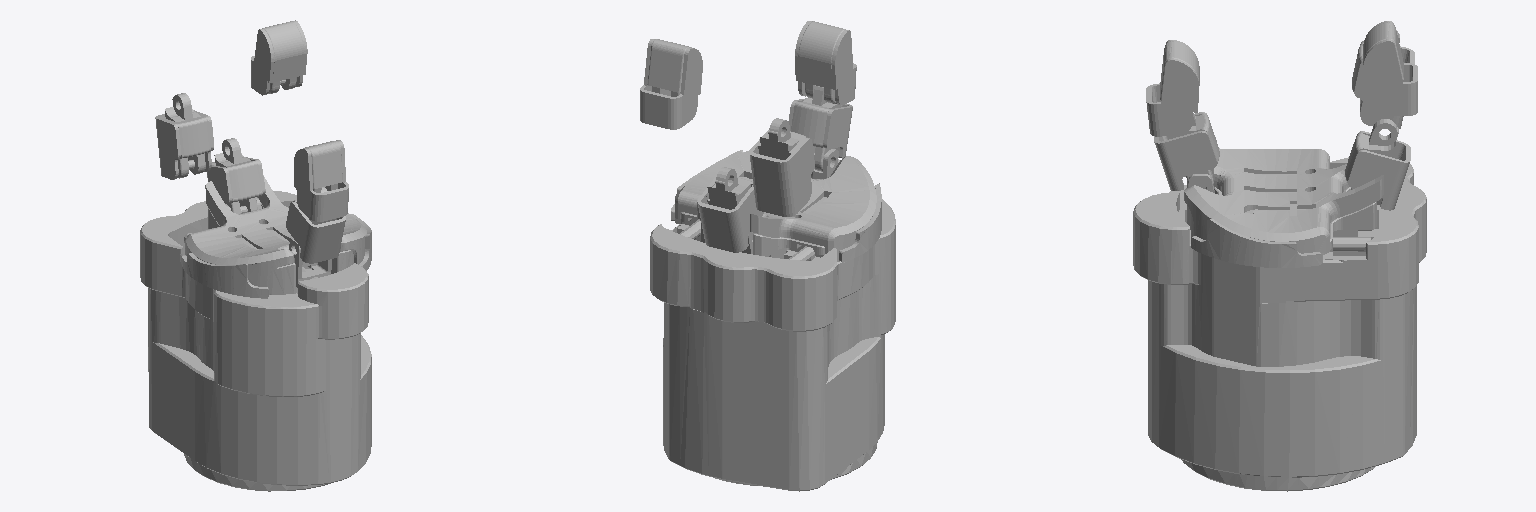
--- Facts derived from the render (not from the file) ---
3 views of the same robot in one strip: view 1: azimuth 30°, elevation 25°; view 2: azimuth 150°, elevation 25°; view 3: azimuth 270°, elevation 25° (orthographic).
Model heri_II with 17 links and 16 joints (15 revolute, 1 fixed), rooted at world, posed every joint at zero.
Visible links, largest first — view 1: base_link, LFP1_2, SFP1_2, LFP3_3, LFP2_1, SFB1_1, SFB1; view 2: base_link, LFP1_2, LFP3_3, SFP1_2, LFP2_1, SFB1_1; view 3: base_link, LFP3_3, SFP1_2, LFP2_1, SFB1_1, LFP1_2.
Link boxes in pixels (bbox=[...]): base_link: bbox=[140, 175, 371, 491]; LFP1_2: bbox=[155, 93, 213, 179]; SFP1_2: bbox=[294, 140, 348, 221]; LFP3_3: bbox=[251, 20, 307, 95]; LFP2_1: bbox=[207, 138, 265, 213]; SFB1_1: bbox=[286, 187, 345, 263]; SFB1: bbox=[289, 239, 331, 287]; base_link: bbox=[650, 150, 895, 491]; LFP1_2: bbox=[749, 118, 814, 216]; LFP3_3: bbox=[640, 39, 702, 129]; SFP1_2: bbox=[795, 21, 856, 105]; LFP2_1: bbox=[697, 167, 763, 252]; SFB1_1: bbox=[788, 85, 852, 171]; base_link: bbox=[1133, 148, 1426, 491]; LFP3_3: bbox=[1363, 21, 1417, 115]; SFP1_2: bbox=[1146, 40, 1199, 136]; LFP2_1: bbox=[1345, 119, 1410, 210]; SFB1_1: bbox=[1154, 112, 1219, 190]; LFP1_2: bbox=[1352, 30, 1414, 128].
Bounding box of the posed robot: 0.1112 × 0.1401 × 0.2338 m (x, y, z).
8 mesh visuals loaded from 16 distinct referenced files (8 binary STL); not drawn: 8 (reference not matched to a file when rendering).

robot.urdf — heri_II:
<?xml version="1.0" ?>
<!-- =================================================================================== -->
<!-- |    This document was autogenerated by xacro from heri_II.xacro                  | -->
<!-- |    EDITING THIS FILE BY HAND IS NOT RECOMMENDED                                 | -->
<!-- =================================================================================== -->
<robot name="heri_II" xmlns:xacro="http://ros.org/wiki/xacro">
  <!-- rosee plugin -->
  <gazebo>
    <plugin filename="libHeriIIPlugin.so" name="heri_controller">
      </plugin>
  </gazebo>
  <!-- /////////////////////////////////   Gazebo   ////////////////////////////////////// -->
  <gazebo reference="base_link">
    <fudgeFactor value="0.5"/>
    <material>Gazebo/Red</material>
  </gazebo>
  <gazebo reference="SFB1">
    <fudgeFactor value="0.5"/>
    <material>Gazebo/White</material>
  </gazebo>
  <gazebo reference="SFB1_1">
    <fudgeFactor value="0.5"/>
    <material>Gazebo/White</material>
  </gazebo>
  <gazebo reference="SFP1_2">
    <fudgeFactor value="0.5"/>
    <material>Gazebo/Blue</material>
  </gazebo>
  <gazebo reference="LFB1">
    <fudgeFactor value="0.5"/>
    <material>Gazebo/White</material>
  </gazebo>
  <gazebo reference="LFP1_1">
    <fudgeFactor value="0.5"/>
    <material>Gazebo/White</material>
  </gazebo>
  <gazebo reference="LFP1_2">
    <fudgeFactor value="0.5"/>
    <material>Gazebo/White</material>
  </gazebo>
  <gazebo reference="LFP1_3">
    <fudgeFactor value="0.5"/>
    <material>Gazebo/Blue</material>
  </gazebo>
  <gazebo reference="LFB2">
    <fudgeFactor value="0.5"/>
    <material>Gazebo/White</material>
  </gazebo>
  <gazebo reference="LFP2_1">
    <fudgeFactor value="0.5"/>
    <material>Gazebo/White</material>
  </gazebo>
  <gazebo reference="LFP2_2">
    <fudgeFactor value="0.5"/>
    <material>Gazebo/White</material>
  </gazebo>
  <gazebo reference="LFP2_3">
    <fudgeFactor value="0.5"/>
    <material>Gazebo/Blue</material>
  </gazebo>
  <material name="Black">
    <color rgba="0 0 0 1"/>
  </material>
  <material name="White">
    <color rgba="1 1 1 1"/>
  </material>
  <material name="Blue">
    <color rgba="0 0 1 1"/>
  </material>
  <material name="Red">
    <color rgba="1 0 0 1"/>
  </material>
  <!-- ///////////////////////////////////////   Short Finger   ////////////////////////////////////////// -->
  <!-- ///////////////////////////////////////   base_link   ////////////////////////////////////////// -->
  <link name="world"/>
  <joint name="world_base" type="fixed">
    <!-- z!= from 1 is necessary because otherwise the hand has tremors. I think this is because it compentetrate
     with the terrain ? -->
    <origin rpy="0 0 0" xyz="0 0 0.015"/>
    <parent link="world"/>
    <child link="base_link"/>
  </joint>
  <link name="base_link">
    <inertial>
      <origin rpy="0 0 0" xyz="0.00030739 0.003138 -0.0012876"/>
      <mass value="0.73864"/>
      <inertia ixx="0.0010292" ixy="-6.0935E-06" ixz="1.0739E-05" iyy="0.0011781" iyz="1.3882E-05" izz="0.00089393"/>
    </inertial>
    <visual>
      <origin rpy="0 0 0" xyz="0 0 0"/>
      <geometry>
        <mesh filename="package://ros_end_effector/configs/meshes/heri_II/base_heri_ii.STL"/>
      </geometry>
      <material name="">
        <color rgba="0.75294 0.75294 0.75294 1"/>
      </material>
    </visual>
    <collision>
      <origin rpy="0 0 0" xyz="0 0 0"/>
      <geometry>
        <mesh filename="package://ros_end_effector/configs/meshes/heri_II/base_heri_ii.STL"/>
      </geometry>
    </collision>
  </link>
  <!-- ///////////////////////////////////////   Base_Link of the short_finger   ////////////////////////////////////////// -->
  <link name="SFB1">
    <inertial>
      <origin rpy="0 0 0" xyz="3.9400487E-03 0 6.4488006E-03"/>
      <mass value="4.1065000E-03"/>
      <inertia ixx="4.3061452E-07" ixy="0" ixz="-1.2027573E-07" iyy="3.9605806E-07" iyz="0" izz="3.9738552E-07"/>
    </inertial>
    <visual>
      <origin rpy="0 0 0" xyz="0 0 0"/>
      <geometry>
        <mesh filename="package://ros_end_effector/configs/meshes/heri_II/SFB1.STL"/>
      </geometry>
      <material name="">
        <color rgba="0.75294 0.75294 0.75294 1"/>
      </material>
    </visual>
    <collision>
      <origin rpy="0 0 0" xyz="0 0 0"/>
      <geometry>
        <mesh filename="package://ros_end_effector/configs/meshes/heri_II/SFB1.STL"/>
      </geometry>
    </collision>
  </link>
  <!-- ///////////////////////////////////////   Joint of BASE and the base_link of the short finger   ////////////////////////////////////////// -->
  <joint name="BASE__SFB1" type="revolute">
    <origin rpy="1.5708 -1.5708 0" xyz="7.6421E-05 -0.031634 0.1213"/>
    <parent link="base_link"/>
    <child link="SFB1"/>
    <axis xyz="0 0 1"/>
    <limit effort="10" lower="-0.1" upper="0.1" velocity="1"/>
    <dynamics damping="0.003" friction="0.003"/>
  </joint>
  <!-- ///////////////////////////////////////   First phalanx of the Short_Finger   ////////////////////////////////////////// -->
  <link name="SFB1_1">
    <inertial>
      <origin rpy="0 0 0" xyz="0.013537693 -0.00011389541 0.00014514898"/>
      <mass value="0.021630428"/>
      <inertia ixx="1.7547572E-06" ixy="1.2425281E-07" ixz="-5.2776703E-08" iyy="7.3422819E-06" iyz="-1.1395559E-09" izz="7.1587820E-06"/>
    </inertial>
    <visual>
      <origin rpy="0 0 0" xyz="0 0 0"/>
      <geometry>
        <mesh filename="package://ros_end_effector/configs/meshes/heri_II/SFB1_1.STL"/>
      </geometry>
      <material name="">
        <color rgba="0.75294 0.75294 0.75294 1"/>
      </material>
    </visual>
    <collision>
      <origin rpy="0 0 0" xyz="0 0 0"/>
      <geometry>
        <mesh filename="package://ros_end_effector/configs/meshes/heri_II/SFB1_1.STL"/>
      </geometry>
    </collision>
  </link>
  <!-- ///////////////////////////////////////   Joint of base_link and the first phalanx of the short finger   ////////////////////////////////////////// -->
  <joint name="SFB1__SFP1_1" type="revolute">
		<origin xyz="0.0211 0 0.007" rpy="1.5708 -0.29671 0" />
    <parent link="SFB1"/>
    <child link="SFB1_1"/>
    <axis xyz="0 0 -1"/>
    <limit effort="10" lower="-0.1" upper="0.9" velocity="1"/>
    <dynamics damping="0.003" friction="0.003"/>
  </joint>
  <!-- ///////////////////////////////////////   Tip phalanx of the short finger   ////////////////////////////////////////// -->
  <link name="SFP1_2">
    <inertial>
      <origin rpy="0 0 0" xyz="0.012398348 -0.00034958691 0.000050212619"/>
      <mass value="0.02226615"/>
      <inertia ixx="1.7400409E-06" ixy="4.4309075E-07" ixz="-1.3771833E-08" iyy="6.8917616E-06" iyz="6.4562527E-09" izz="6.4653229E-06"/>
    </inertial>
    <visual>
      <origin rpy="0 0 0" xyz="0 0 0"/>
      <geometry>
        <mesh filename="package://ros_end_effector/configs/meshes/heri_II/SFP1_2.STL"/>
      </geometry>
      <material name="">
        <color rgba="0.75294 0.75294 0.75294 1"/>
      </material>
    </visual>
    <collision>
      <origin rpy="0 0 0" xyz="0 0 0"/>
      <geometry>
        <mesh filename="package://ros_end_effector/configs/meshes/heri_II/SFP1_2.STL"/>
      </geometry>
    </collision>
  </link>
  <!-- ///////////////////////////////////////   Joint of first and tip phalanxs of the short finger   ////////////////////////////////////////// -->
  <joint name="SFP1_1__SFP1_2" type="revolute">
    <origin rpy="0 0 0" xyz="0.035 0 0"/>
    <parent link="SFB1_1"/>
    <child link="SFP1_2"/>
    <axis xyz="0 0 -1"/>
    <limit effort="10" lower="-0.1" upper="1.2" velocity="1"/>
    <dynamics damping="0.003" friction="0.003"/>
    <mimic joint="SFB1__SFP1_1" multiplier="1.2" offset="0.2"/>
  </joint>
  <!-- ///////////////////////////////////////   Long finger 1   ////////////////////////////////////////// -->
  <!-- ///////////////////////////////////////   Base_Link of the long_finger   ////////////////////////////////////////// -->
  <link name="LFB1">
    <inertial>
      <origin rpy="0 0 0" xyz="0.000045491656 -0.0037522651 0.0064111226"/>
      <mass value="0.0039598861"/>
      <inertia ixx="4.3061452E-07" ixy="0" ixz="-1.2027573E-07" iyy="3.9605806E-07" iyz="0" izz="3.9738552E-07"/>
    </inertial>
    <visual>
      <origin rpy="0 0 0" xyz="0 0 0"/>
      <geometry>
        <mesh filename="package://ros_end_effector/configs/meshes/heri_II/LFB1.STL"/>
      </geometry>
      <material name="">
        <color rgba="0.75294 0.75294 0.75294 1"/>
      </material>
    </visual>
    <collision>
      <origin rpy="0 0 0" xyz="0 0 0"/>
      <geometry>
        <mesh filename="package://ros_end_effector/configs/meshes/heri_II/LFB1.STL"/>
      </geometry>
    </collision>
  </link>
  <!-- ///////////////////////////////////////   Joint of BASE and the base_link of the short finger   ////////////////////////////////////////// -->
  <joint name="BASE__LFB1" type="revolute">
    <origin rpy="1.5708 -1.5708 3.1415927" xyz="-0.031002 0.025903 0.1213"/>
    <parent link="base_link"/>
    <child link="LFB1"/>
    <axis xyz="0 0 1"/>
    <limit effort="10" lower="-0.1" upper="0.1" velocity="1"/>
    <dynamics damping="0.003" friction="0.003"/>
  </joint>
  <!-- ///////////////////////////////////////   First phalanx of the Long_Finger   ////////////////////////////////////////// -->
  <link name="LFP1_1">
    <inertial>
      <origin rpy="0 0 0" xyz="0.013537693 -0.00011389541 0.00014514898"/>
      <mass value="0.021630428"/>
      <inertia ixx="1.7547572E-06" ixy="1.2425281E-07" ixz="-5.2776703E-08" iyy="7.3422819E-06" iyz="-1.1395559E-09" izz="7.1587820E-06"/>
    </inertial>
    <visual>
      <origin rpy="0 0 0" xyz="0 0 0"/>
      <geometry>
        <mesh filename="package://ros_end_effector/configs/meshes/heri_II/LFP1_1.STL"/>
      </geometry>
      <material name="">
        <color rgba="0.75294 0.75294 0.75294 1"/>
      </material>
    </visual>
    <collision>
      <origin rpy="0 0 0" xyz="0 0 0"/>
      <geometry>
        <mesh filename="package://ros_end_effector/configs/meshes/heri_II/LFP1_1.STL"/>
      </geometry>
    </collision>
  </link>
  <!-- ///////////////////////////////////////   Joint of base_link and the first phalanx of the short finger   ////////////////////////////////////////// -->
  <joint name="LFB1__LFP1_1" type="revolute">
    <origin rpy="1.5708 -0.29671 0" xyz="0.011 0 0.007"/>
    <parent link="LFB1"/>
    <child link="LFP1_1"/>
    <axis xyz="0 0 -1"/>
    <limit effort="10" lower="-0.1" upper="0.9" velocity="1"/>
    <dynamics damping="0.003" friction="0.003"/>
  </joint>
  <!-- ///////////////////////////////////////   Second phalanx of the Long_Finger   ////////////////////////////////////////// -->
  <link name="LFP1_2">
    <inertial>
      <origin rpy="0 0 0" xyz="0.012816858 0.00029615072 0.00012767631"/>
      <mass value="0.022869549"/>
      <inertia ixx="1.9943688E-06" ixy="1.3380251E-07" ixz="-5.3468405E-08" iyy="7.4922799E-06" iyz="-9.2812315E-10" izz="7.3102836E-06"/>
    </inertial>
    <visual>
      <origin rpy="0 0 0" xyz="0 0 0"/>
      <geometry>
        <mesh filename="package://ros_end_effector/configs/meshes/heri_II/LFP1_2.STL"/>
      </geometry>
      <material name="">
        <color rgba="0.75294 0.75294 0.75294 1"/>
      </material>
    </visual>
    <collision>
      <origin rpy="0 0 0" xyz="0 0 0"/>
      <geometry>
        <mesh filename="package://ros_end_effector/configs/meshes/heri_II/LFP1_2.STL"/>
      </geometry>
    </collision>
  </link>
  <!-- ///////////////////////////////////////   Joint of base_link and the first phalanx of the long finger   ////////////////////////////////////////// -->
  <joint name="LFP1_1__LFP1_2" type="revolute">
    <origin rpy="0 0 0" xyz="0.035 0 0"/>
    <parent link="LFP1_1"/>
    <child link="LFP1_2"/>
    <axis xyz="0 0 -1"/>
    <limit effort="10" lower="-0.1" upper="0.5" velocity="1"/>
    <dynamics damping="0.06" friction="0.05"/>
    <mimic joint="LFB1__LFP1_1" multiplier="1" offset="0.1"/>
  </joint>
  <!-- ///////////////////////////////////////   Tip phalanx of the long finger   ////////////////////////////////////////// -->
  <link name="LFP1_3">
    <inertial>
      <origin rpy="0 0 0" xyz="0.012398348 -0.00034958691 0.000050212619"/>
      <mass value="0.02226615"/>
      <inertia ixx="1.7400409E-06" ixy="4.4309075E-07" ixz="-1.3771833E-08" iyy="6.8917616E-06" iyz="6.4562527E-09" izz="6.4653229E-06"/>
    </inertial>
    <visual>
      <origin rpy="0 0 0" xyz="0 0 0"/>
      <geometry>
        <mesh filename="package://ros_end_effector/configs/meshes/heri_II/LFP1_3.STL"/>
      </geometry>
      <material name="">
        <color rgba="0.75294 0.75294 0.75294 1"/>
      </material>
    </visual>
    <collision>
      <origin rpy="0 0 0" xyz="0 0 0"/>
      <geometry>
        <mesh filename="package://ros_end_effector/configs/meshes/heri_II/LFP1_3.STL"/>
      </geometry>
    </collision>
  </link>
  <!-- ///////////////////////////////////////   Joint of second and tip phalanxs of the long finger   ////////////////////////////////////////// -->
  <joint name="LFP1_2__LFP1_3" type="revolute">
    <origin rpy="0 0 0" xyz="0.035 0 0"/>
    <parent link="LFP1_2"/>
    <child link="LFP1_3"/>
    <axis xyz="0 0 -1"/>
    <limit effort="10" lower="-0.1" upper="0.5" velocity="1"/>
    <dynamics damping="0.003" friction="0.003"/>
    <mimic joint="LFB1__LFP1_1" multiplier="0.5" offset="0.2"/>
  </joint>

  <!-- ///////////////////////////////////////   Long finger 2   ////////////////////////////////////////// -->
  <!-- ///////////////////////////////////////   Base_Link of the long_finger   ////////////////////////////////////////// -->
  <link name="LFB2">
    <inertial>
      <origin rpy="0 0 0" xyz="0.000045491656 -0.0037522651 0.0064111226"/>
      <mass value="0.0039598861"/>
      <inertia ixx="4.3061452E-07" ixy="0" ixz="-1.2027573E-07" iyy="3.9605806E-07" iyz="0" izz="3.9738552E-07"/>
    </inertial>
    <visual>
      <origin rpy="0 0 0" xyz="0 0 0"/>
      <geometry>
        <mesh filename="package://ros_end_effector/configs/meshes/heri_II/LFB2.STL"/>
      </geometry>
      <material name="">
        <color rgba="0.75294 0.75294 0.75294 1"/>
      </material>
    </visual>
    <collision>
      <origin rpy="0 0 0" xyz="0 0 0"/>
      <geometry>
        <mesh filename="package://ros_end_effector/configs/meshes/heri_II/LFB2.STL"/>
      </geometry>
    </collision>
  </link>
  <!-- ///////////////////////////////////////   Joint of BASE and the base_link of the short finger   ////////////////////////////////////////// -->
  <joint name="BASE__LFB2" type="revolute">
    <origin rpy="1.5708 -1.5708 3.1415927" xyz="0 0.031903 0.1213"/>
    <parent link="base_link"/>
    <child link="LFB2"/>
    <axis xyz="0 0 1"/>
    <limit effort="10" lower="-0.1" upper="0.1" velocity="1"/>
    <dynamics damping="0.003" friction="0.003"/>
  </joint>
  <!-- ///////////////////////////////////////   First phalanx of the Long_Finger   ////////////////////////////////////////// -->
  <link name="LFP2_1">
    <inertial>
      <origin rpy="0 0 0" xyz="0.013537693 -0.00011389541 0.00014514898"/>
      <mass value="0.021630428"/>
      <inertia ixx="1.7547572E-06" ixy="1.2425281E-07" ixz="-5.2776703E-08" iyy="7.3422819E-06" iyz="-1.1395559E-09" izz="7.1587820E-06"/>
    </inertial>
    <visual>
      <origin rpy="0 0 0" xyz="0 0 0"/>
      <geometry>
        <mesh filename="package://ros_end_effector/configs/meshes/heri_II/LFP2_1.STL"/>
      </geometry>
      <material name="">
        <color rgba="0.75294 0.75294 0.75294 1"/>
      </material>
    </visual>
    <collision>
      <origin rpy="0 0 0" xyz="0 0 0"/>
      <geometry>
        <mesh filename="package://ros_end_effector/configs/meshes/heri_II/LFP2_1.STL"/>
      </geometry>
    </collision>
  </link>
  <!-- ///////////////////////////////////////   Joint of base_link and the first phalanx of the short finger   ////////////////////////////////////////// -->
  <joint name="LFB2__LFP2_1" type="revolute">
    <origin rpy="1.5708 -0.29671 0" xyz="0.011 0 0.007"/>
    <parent link="LFB2"/>
    <child link="LFP2_1"/>
    <axis xyz="0 0 -1"/>
    <limit effort="10" lower="-0.1" upper="0.73" velocity="1"/>
    <dynamics damping="0.003" friction="0.003"/>
  </joint>
  <!-- ///////////////////////////////////////   Second phalanx of the Long_Finger   ////////////////////////////////////////// -->
  <link name="LFP2_2">
    <inertial>
      <origin rpy="0 0 0" xyz="0.012816858 0.00029615072 0.00012767631"/>
      <mass value="0.022869549"/>
      <inertia ixx="1.9943688E-06" ixy="1.3380251E-07" ixz="-5.3468405E-08" iyy="7.4922799E-06" iyz="-9.2812315E-10" izz="7.3102836E-06"/>
    </inertial>
    <visual>
      <origin rpy="0 0 0" xyz="0 0 0"/>
      <geometry>
        <mesh filename="package://ros_end_effector/configs/meshes/heri_II/LFP2_2.STL"/>
      </geometry>
      <material name="">
        <color rgba="0.75294 0.75294 0.75294 1"/>
      </material>
    </visual>
    <collision>
      <origin rpy="0 0 0" xyz="0 0 0"/>
      <geometry>
        <mesh filename="package://ros_end_effector/configs/meshes/heri_II/LFP2_2.STL"/>
      </geometry>
    </collision>
  </link>
  <!-- ///////////////////////////////////////   Joint of base_link and the first phalanx of the short finger   ////////////////////////////////////////// -->
  <joint name="LFP2_1__LFP2_2" type="revolute">
    <origin rpy="0 0 0" xyz="0.035 0 0"/>
    <parent link="LFP2_1"/>
    <child link="LFP2_2"/>
    <axis xyz="0 0 -1"/>
    <limit effort="10" lower="-0.1" upper="0.5" velocity="1"/>
    <dynamics damping="0.003" friction="0.003"/>
    <mimic joint="LFB2__LFP2_1" multiplier="1" offset="0.1"/>
  </joint>

  <!-- ///////////////////////////////////////   Tip phalanx of the long finger   ////////////////////////////////////////// -->
  <link name="LFP2_3">
    <inertial>
      <origin rpy="0 0 0" xyz="0.012398348 -0.00034958691 0.000050212619"/>
      <mass value="0.02226615"/>
      <inertia ixx="1.7400409E-06" ixy="4.4309075E-07" ixz="-1.3771833E-08" iyy="6.8917616E-06" iyz="6.4562527E-09" izz="6.4653229E-06"/>
    </inertial>
    <visual>
      <origin rpy="0 0 0" xyz="0 0 0"/>
      <geometry>
        <mesh filename="package://ros_end_effector/configs/meshes/heri_II/LFP2_3.STL"/>
      </geometry>
      <material name="">
        <color rgba="0.75294 0.75294 0.75294 1"/>
      </material>
    </visual>
    <collision>
      <origin rpy="0 0 0" xyz="0 0 0"/>
      <geometry>
        <mesh filename="package://ros_end_effector/configs/meshes/heri_II/LFP2_3.STL"/>
      </geometry>
    </collision>
  </link>
  <!-- ///////////////////////////////////////   Joint of second and tip phalanxs of the long finger   ////////////////////////////////////////// -->
  <joint name="LFP2_2__LFP2_3" type="revolute">
    <origin rpy="0 0 0" xyz="0.035 0 0"/>
    <parent link="LFP2_2"/>
    <child link="LFP2_3"/>
    <axis xyz="0 0 -1"/>
    <limit effort="10" lower="-0.1" upper="0.5" velocity="1"/>
    <dynamics damping="0.06" friction="0.05"/>
    <mimic joint="LFB2__LFP2_1" multiplier="0.5" offset="0.2"/>
  </joint>

  <!-- ///////////////////////////////////////   Long finger 3   ////////////////////////////////////////// -->
  <!-- ///////////////////////////////////////   Base_Link of the long_finger   ////////////////////////////////////////// -->
  <link name="LFB3">
    <inertial>
      <origin rpy="0 0 0" xyz="0.000045491656 -0.0037522651 0.0064111226"/>
      <mass value="0.0039598861"/>
      <inertia ixx="4.3061452E-07" ixy="0" ixz="-1.2027573E-07" iyy="3.9605806E-07" iyz="0" izz="3.9738552E-07"/>
    </inertial>
    <visual>
      <origin rpy="0 0 0" xyz="0 0 0"/>
      <geometry>
        <mesh filename="package://ros_end_effector/configs/meshes/heri_II/LFB3.STL"/>
      </geometry>
      <material name="">
        <color rgba="0.75294 0.75294 0.75294 1"/>
      </material>
    </visual>
    <collision>
      <origin rpy="0 0 0" xyz="0 0 0"/>
      <geometry>
        <mesh filename="package://ros_end_effector/configs/meshes/heri_II/LFB3.STL"/>
      </geometry>
    </collision>
  </link>
  <!-- ///////////////////////////////////////   Joint of BASE and the base_link of the short finger   ////////////////////////////////////////// -->
  <joint name="BASE__LFB3" type="revolute">
    <origin rpy="1.5708 -1.5708 3.1415927" xyz="0.030998 0.025903 0.1213"/>
    <parent link="base_link"/>
    <child link="LFB3"/>
    <axis xyz="0 0 1"/>
    <limit effort="10" lower="-0.1" upper="0.1" velocity="1"/>
    <dynamics damping="0.003" friction="0.003"/>
  </joint>
  <!-- ///////////////////////////////////////   First phalanx of the Long_Finger   ////////////////////////////////////////// -->
  <link name="LFP3_1">
    <inertial>
      <origin rpy="0 0 0" xyz="0.013537693 -0.00011389541 0.00014514898"/>
      <mass value="0.021630428"/>
      <inertia ixx="1.7547572E-06" ixy="1.2425281E-07" ixz="-5.2776703E-08" iyy="7.3422819E-06" iyz="-1.1395559E-09" izz="7.1587820E-06"/>
    </inertial>
    <visual>
      <origin rpy="0 0 0" xyz="0 0 0"/>
      <geometry>
        <mesh filename="package://ros_end_effector/configs/meshes/heri_II/LFP3_1.STL"/>
      </geometry>
      <material name="">
        <color rgba="0.75294 0.75294 0.75294 1"/>
      </material>
    </visual>
    <collision>
      <origin rpy="0 0 0" xyz="0 0 0"/>
      <geometry>
        <mesh filename="package://ros_end_effector/configs/meshes/heri_II/LFP3_1.STL"/>
      </geometry>
    </collision>
  </link>
  <!-- ///////////////////////////////////////   Joint of base_link and the first phalanx of the short finger   ////////////////////////////////////////// -->
  <joint name="LFB3__LFP3_1" type="revolute">
    <origin rpy="1.5708 -0.29671 0" xyz="0.011 0 0.007"/>
    <parent link="LFB3"/>
    <child link="LFP3_1"/>
    <axis xyz="0 0 -1"/>
    <limit effort="10" lower="-0.1" upper="0.9" velocity="1"/>
    <dynamics damping="0.003" friction="0.003"/>
  </joint>
  <!-- ///////////////////////////////////////   Second phalanx of the Long_Finger   ////////////////////////////////////////// -->
  <link name="LFP3_2">
    <inertial>
      <origin rpy="0 0 0" xyz="0.012816858 0.00029615072 0.00012767631"/>
      <mass value="0.022869549"/>
      <inertia ixx="1.9943688E-06" ixy="1.3380251E-07" ixz="-5.3468405E-08" iyy="7.4922799E-06" iyz="-9.2812315E-10" izz="7.3102836E-06"/>
    </inertial>
    <visual>
      <origin rpy="0 0 0" xyz="0 0 0"/>
      <geometry>
        <mesh filename="package://ros_end_effector/configs/meshes/heri_II/LFP3_2.STL"/>
      </geometry>
      <material name="">
        <color rgba="0.75294 0.75294 0.75294 1"/>
      </material>
    </visual>
    <collision>
      <origin rpy="0 0 0" xyz="0 0 0"/>
      <geometry>
        <mesh filename="package://ros_end_effector/configs/meshes/heri_II/LFP3_2.STL"/>
      </geometry>
    </collision>
  </link>
  <!-- ///////////////////////////////////////   Joint of base_link and the first phalanx of the short finger   ////////////////////////////////////////// -->
  <joint name="LFP3_1__LFP3_2" type="revolute">
    <origin rpy="0 0 0" xyz="0.035 0 0"/>
    <parent link="LFP3_1"/>
    <child link="LFP3_2"/>
    <axis xyz="0 0 -1"/>
    <limit effort="10" lower="-0.1" upper="0.5" velocity="1"/>
    <dynamics damping="0.003" friction="0.003"/>
    <mimic joint="LFB3__LFP3_1" multiplier="1" offset="0.1"/>
  </joint>

  <!-- ///////////////////////////////////////   Tip phalanx of the long finger   ////////////////////////////////////////// -->
  <link name="LFP3_3">
    <inertial>
      <origin rpy="0 0 0" xyz="0.012398348 -0.00034958691 0.000050212619"/>
      <mass value="0.02226615"/>
      <inertia ixx="1.7400409E-06" ixy="4.4309075E-07" ixz="-1.3771833E-08" iyy="6.8917616E-06" iyz="6.4562527E-09" izz="6.4653229E-06"/>
    </inertial>
    <visual>
      <origin rpy="0 0 0" xyz="0 0 0"/>
      <geometry>
        <mesh filename="package://ros_end_effector/configs/meshes/heri_II/LFP3_3.STL"/>
      </geometry>
      <material name="">
        <color rgba="0.75294 0.75294 0.75294 1"/>
      </material>
    </visual>
    <collision>
      <origin rpy="0 0 0" xyz="0 0 0"/>
      <geometry>
        <mesh filename="package://ros_end_effector/configs/meshes/heri_II/LFP3_3.STL"/>
      </geometry>
    </collision>
  </link>
  <!-- ///////////////////////////////////////   Joint of second and tip phalanxs of the long finger   ////////////////////////////////////////// -->
  <joint name="LFP3_2__LFP3_3" type="revolute">
    <origin rpy="0 0 0" xyz="0.035 0 0"/>
    <parent link="LFP3_2"/>
    <child link="LFP3_3"/>
    <axis xyz="0 0 -1"/>
    <limit effort="10" lower="-0.1" upper="0.5" velocity="1"/>
    <dynamics damping="0.003" friction="0.003"/>
    <mimic joint="LFB3__LFP3_1" multiplier="0.5" offset="0.2"/>
  </joint>

</robot>
